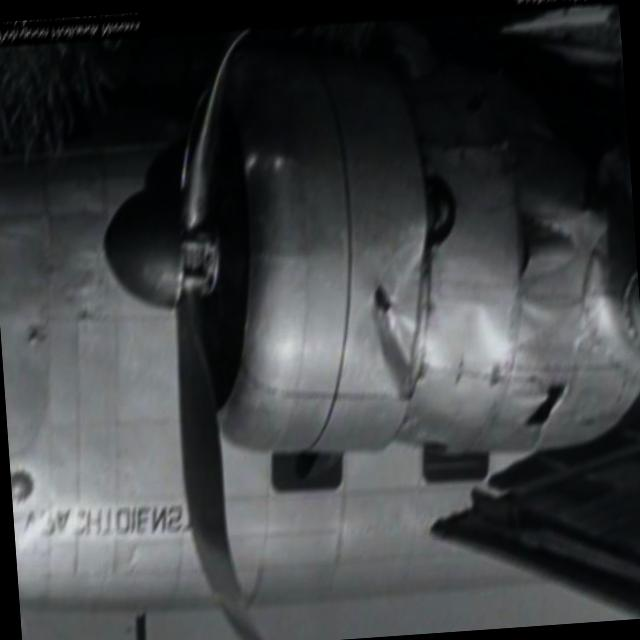dent: (363, 294, 422, 384)
